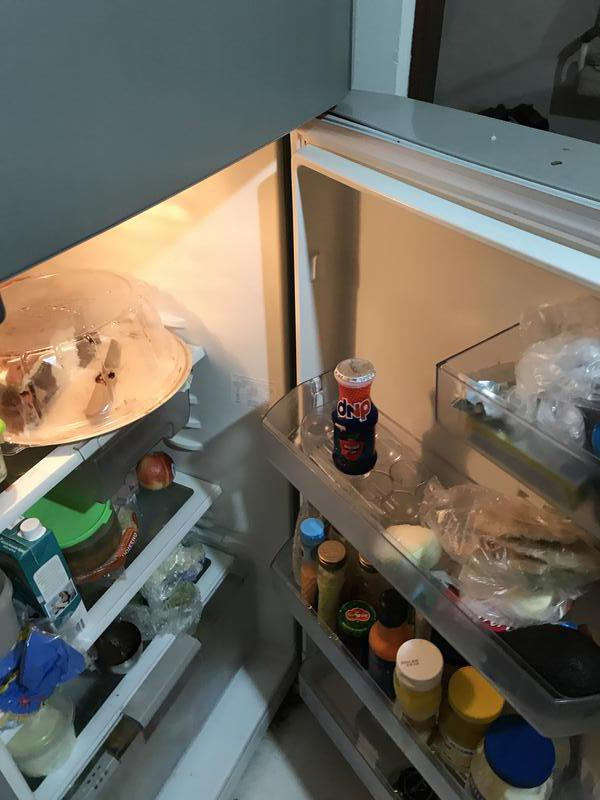danup: (332, 357, 380, 477)
